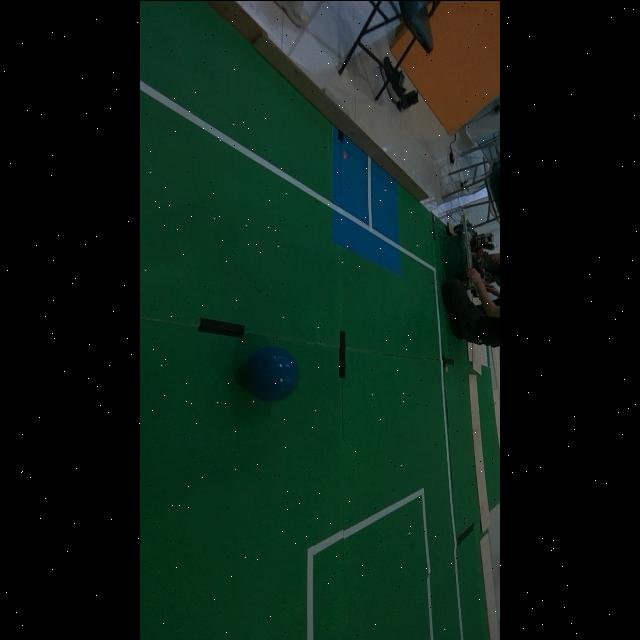B: (243, 346, 300, 401)
